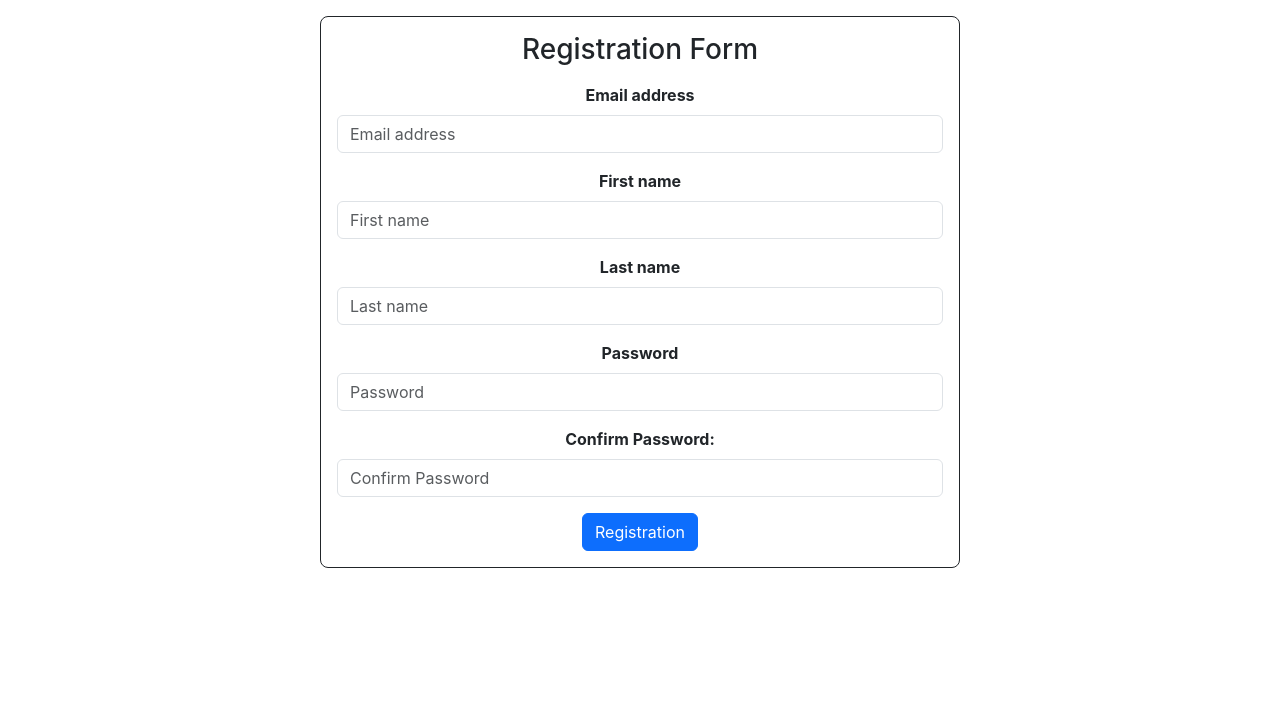
Test case: RegistrationBody Component › should handle form submission and success modal
Type "test@example.com" into the field with placeholder "Email address" at (640, 134), box [337,115,943,153]
Type "John" into the field with placeholder "First name" at (640, 220), box [337,201,943,239]
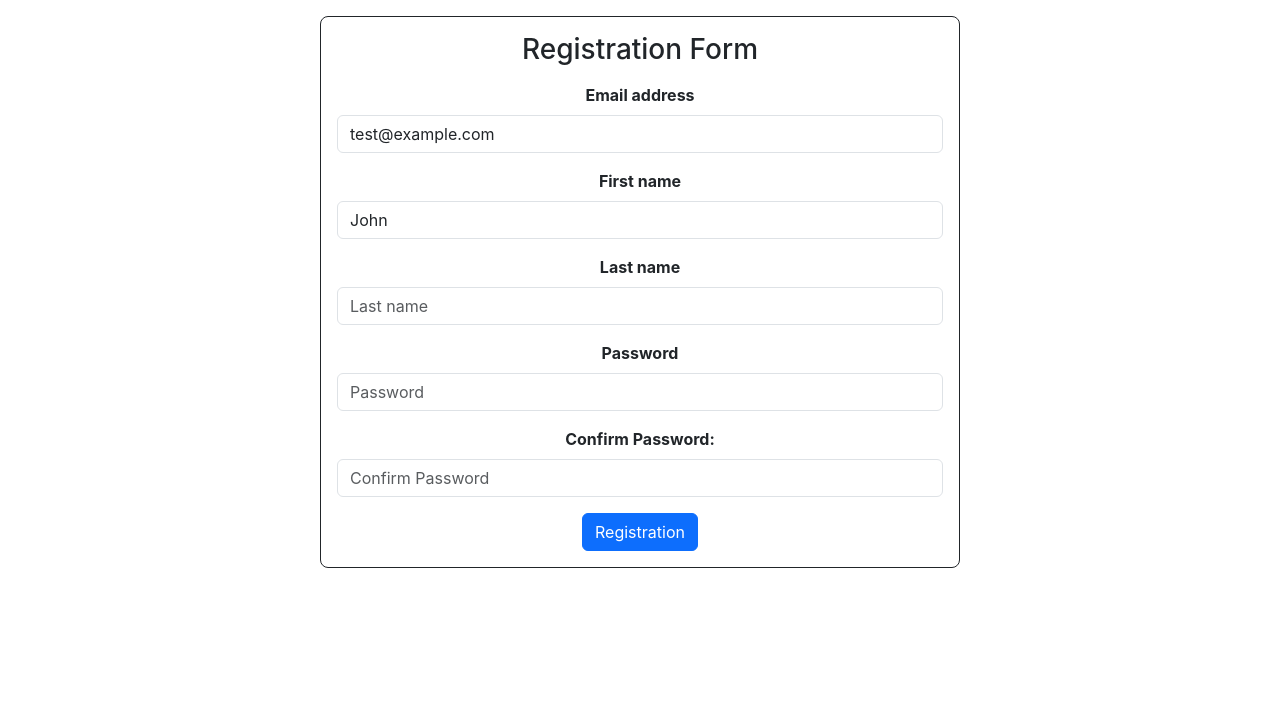
Type "Doe" into the field with placeholder "Last name" at (640, 306), box [337,287,943,325]
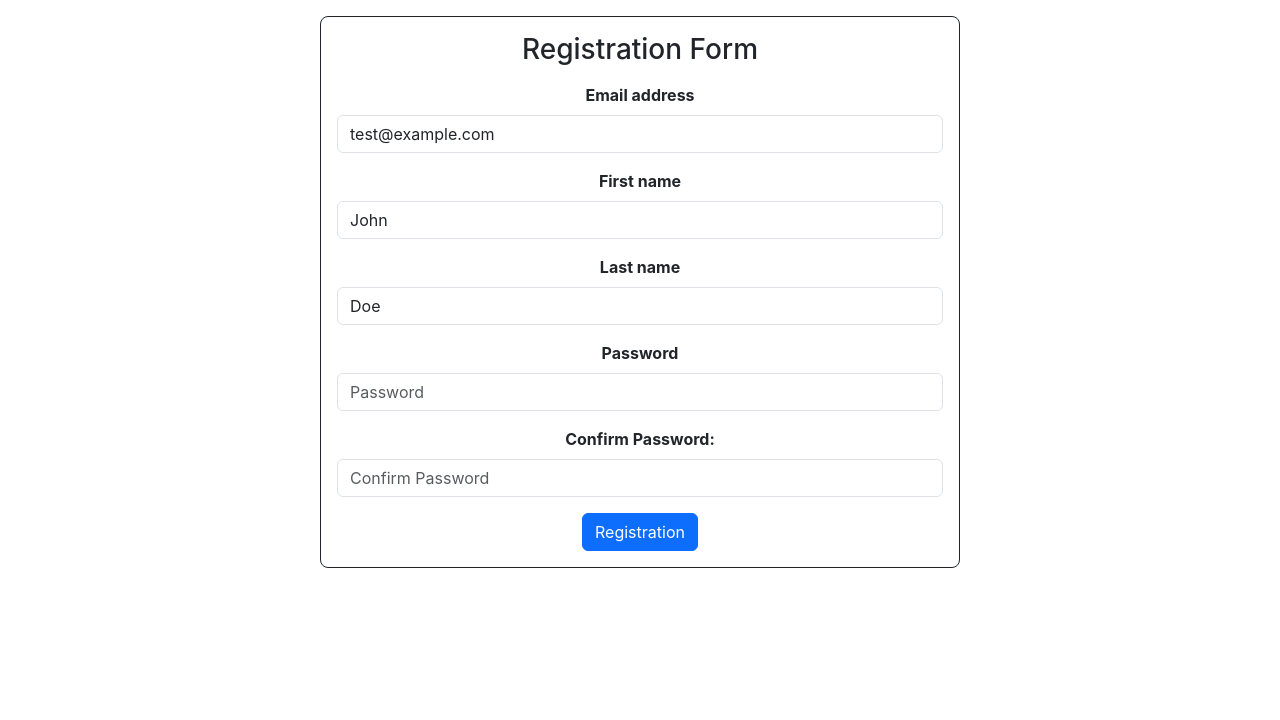
Type "password123" into the password field with placeholder "Password" at (640, 392), box [337,373,943,411]
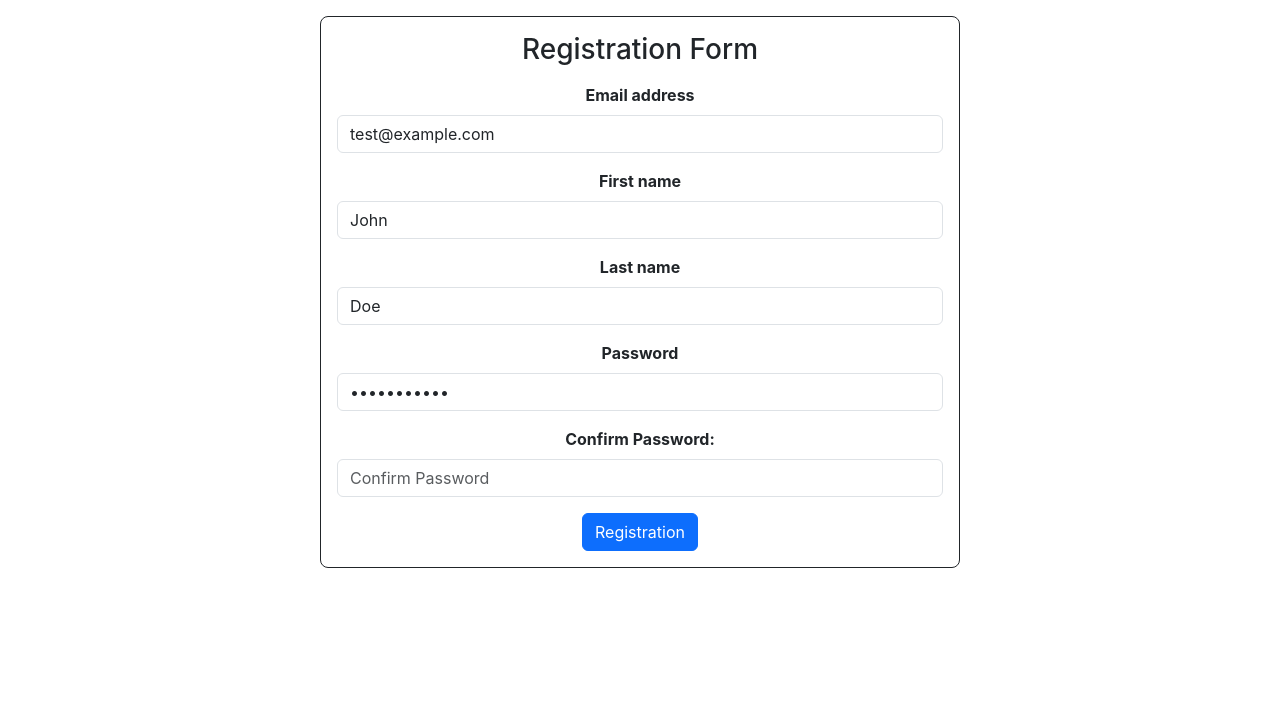
Type "password123" into the password field with placeholder "Confirm Password" at (640, 478), box [337,459,943,497]
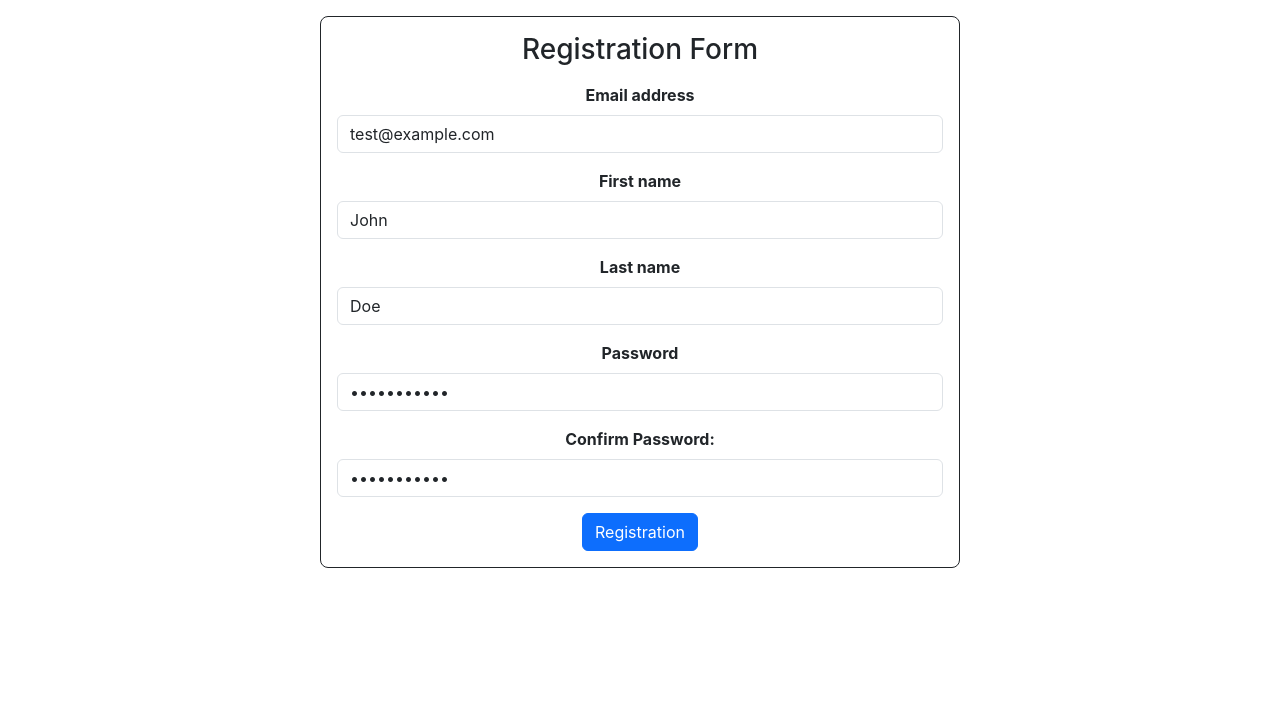
Click the button "Registration" at (640, 532), box [582,513,698,551]
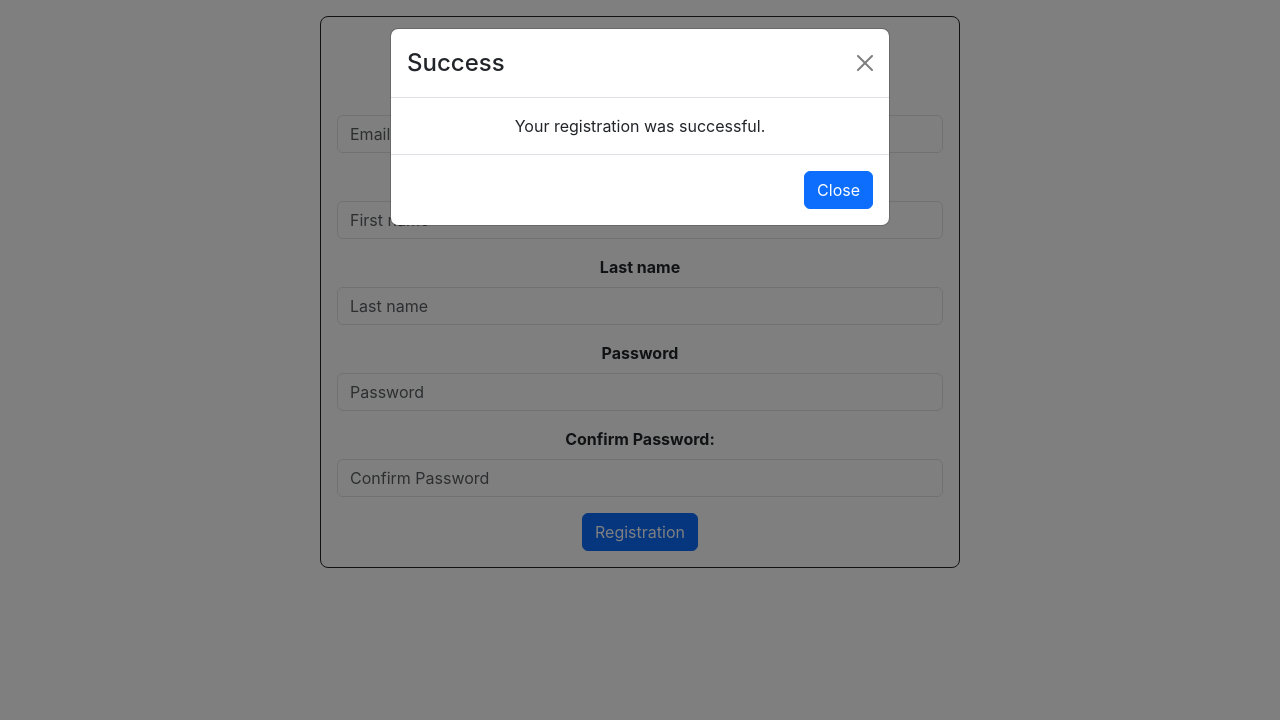
Check: the text "Your registration was successful." is shown, box [515,116,765,136]
Click the button "Close" at (839, 190), box [804,171,873,209]
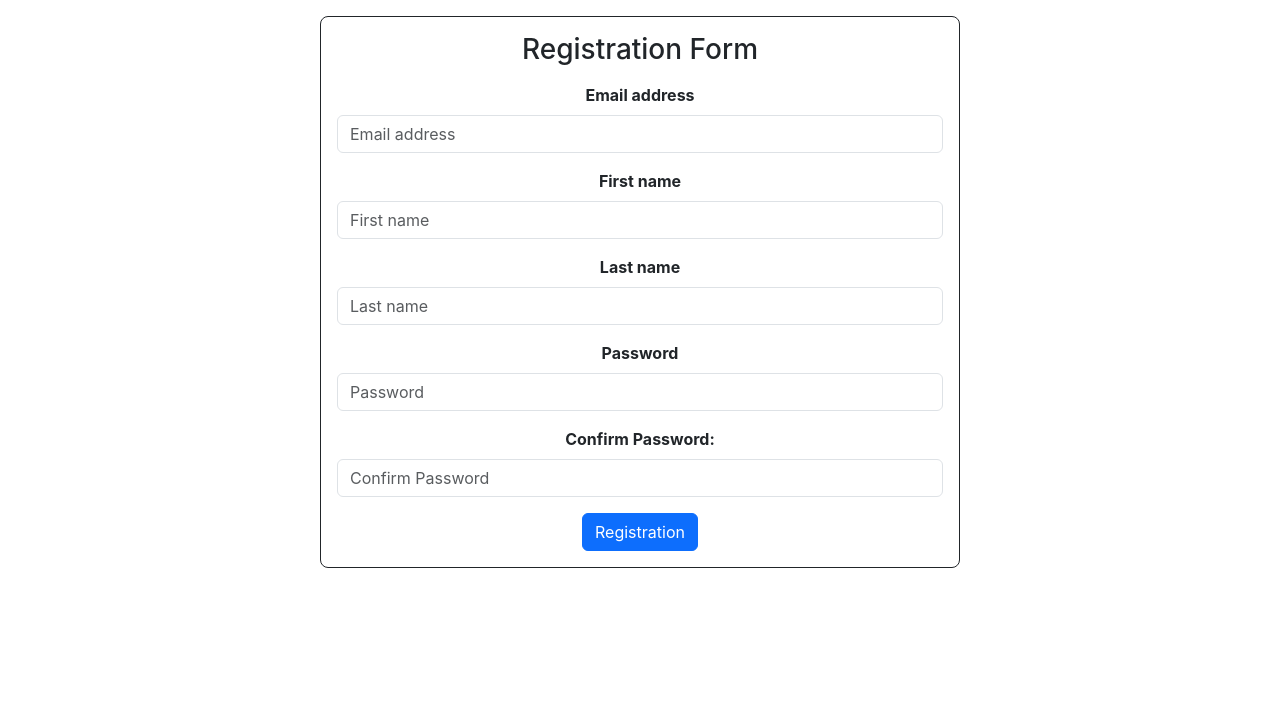
Check: the text "Your registration was successful." is gone
